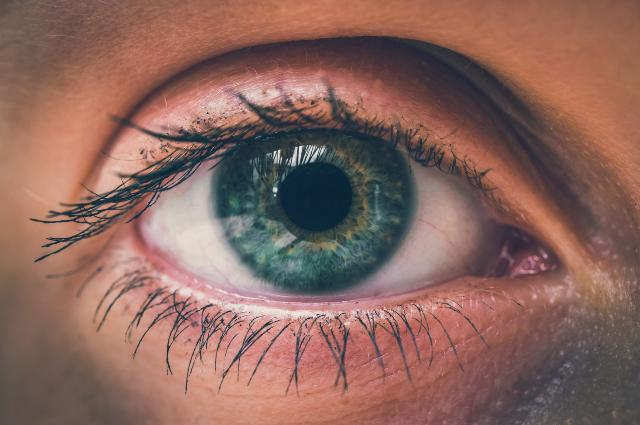eye: (216, 127, 417, 298)
